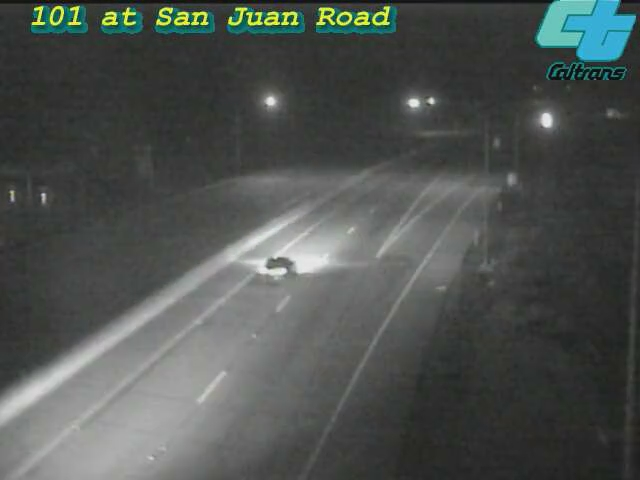vehicle: (242, 221, 322, 301), (585, 90, 635, 140), (522, 95, 572, 145)
